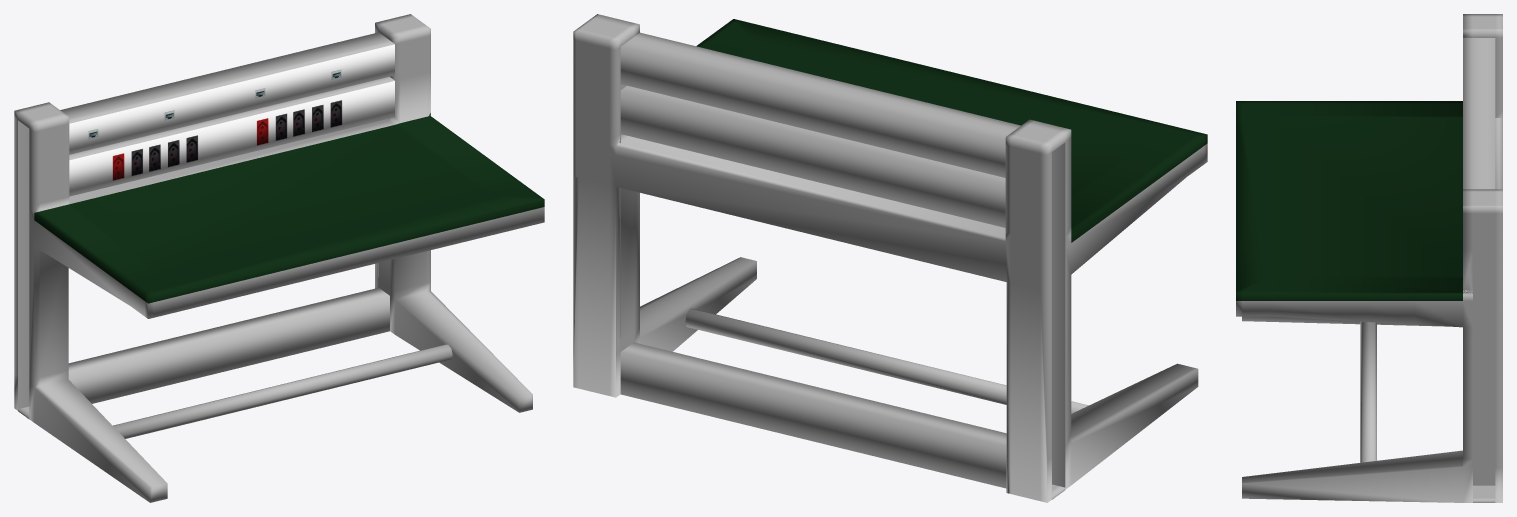
Rendered from mesa de Rede.fbx.
3 views of the same model, side by side, from view 1: azimuth 30°, elevation 25°; view 2: azimuth 150°, elevation 25°; view 3: azimuth 270°, elevation 25° (orthographic). The views are drawn at different scales.
Visible parts, largest first — view 1: mesa de rede; view 2: mesa de rede; view 3: mesa de rede.
Boxes of the visible parts, bbox=[...] form: mesa de rede: bbox=[14, 14, 544, 502]; mesa de rede: bbox=[573, 14, 1207, 502]; mesa de rede: bbox=[1236, 14, 1502, 502].
Bounding box in the file's own units: 0.9032 × 0.6483 × 0.5288.
3 materials, 1 textured.
